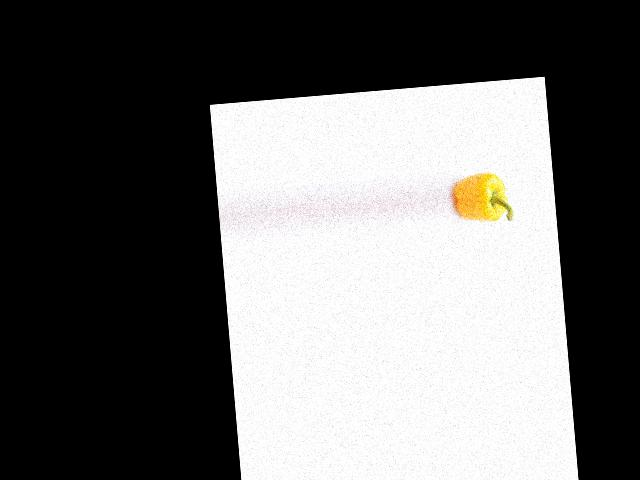bell_pepper: (451, 166, 512, 227)
